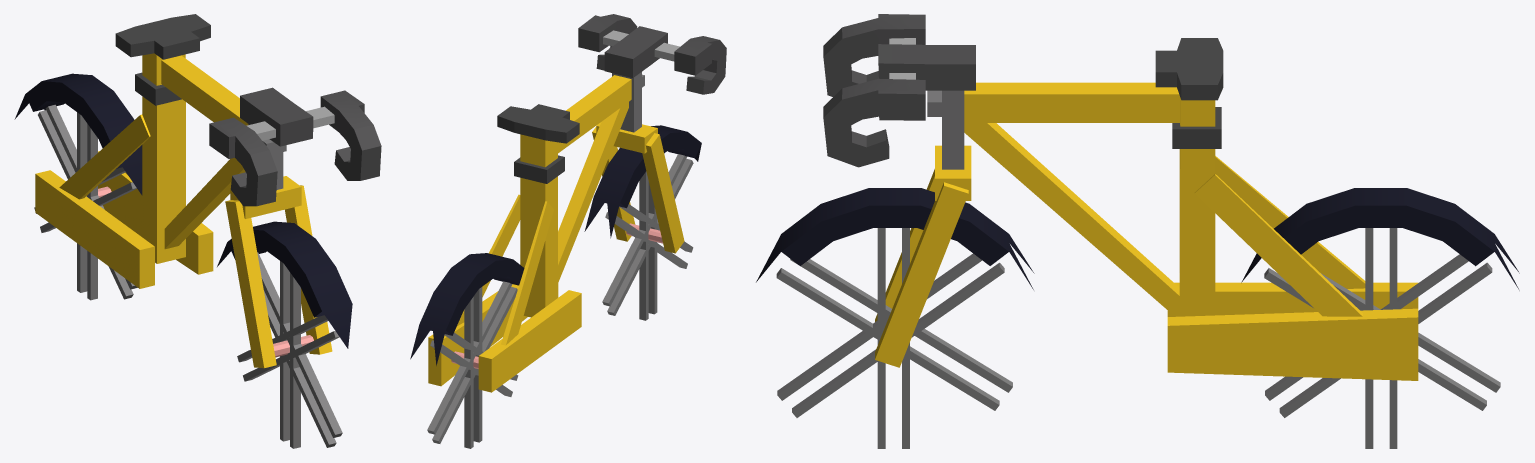
The model's file is body.glb.
3 views of the same model, side by side, from view 1: azimuth 30°, elevation 25°; view 2: azimuth 150°, elevation 25°; view 3: azimuth 270°, elevation 25° (orthographic). The views are drawn at different scales.
Parts seen in each view (by area): view 1: Fork.004_Texture_0; view 2: Fork.004_Texture_0; view 3: Fork.004_Texture_0.
Boxes of the visible parts, x1,y1,x2,y2 form: Fork.004_Texture_0: (14,14,381,448); Fork.004_Texture_0: (410,14,726,448); Fork.004_Texture_0: (756,14,1519,448).
Bounding box in the file's own units: 2.52 × 5.81 × 10.24.
1 material, 1 textured.
